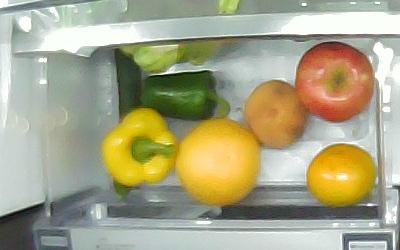apple: (295, 42, 374, 122)
cucumber: (113, 48, 142, 203)
grapefruit: (176, 117, 261, 208)
lettuce: (119, 40, 225, 73)
paprika: (102, 107, 178, 188), (143, 70, 230, 119)
peach: (245, 79, 306, 148)
persimmon: (307, 144, 376, 207)
